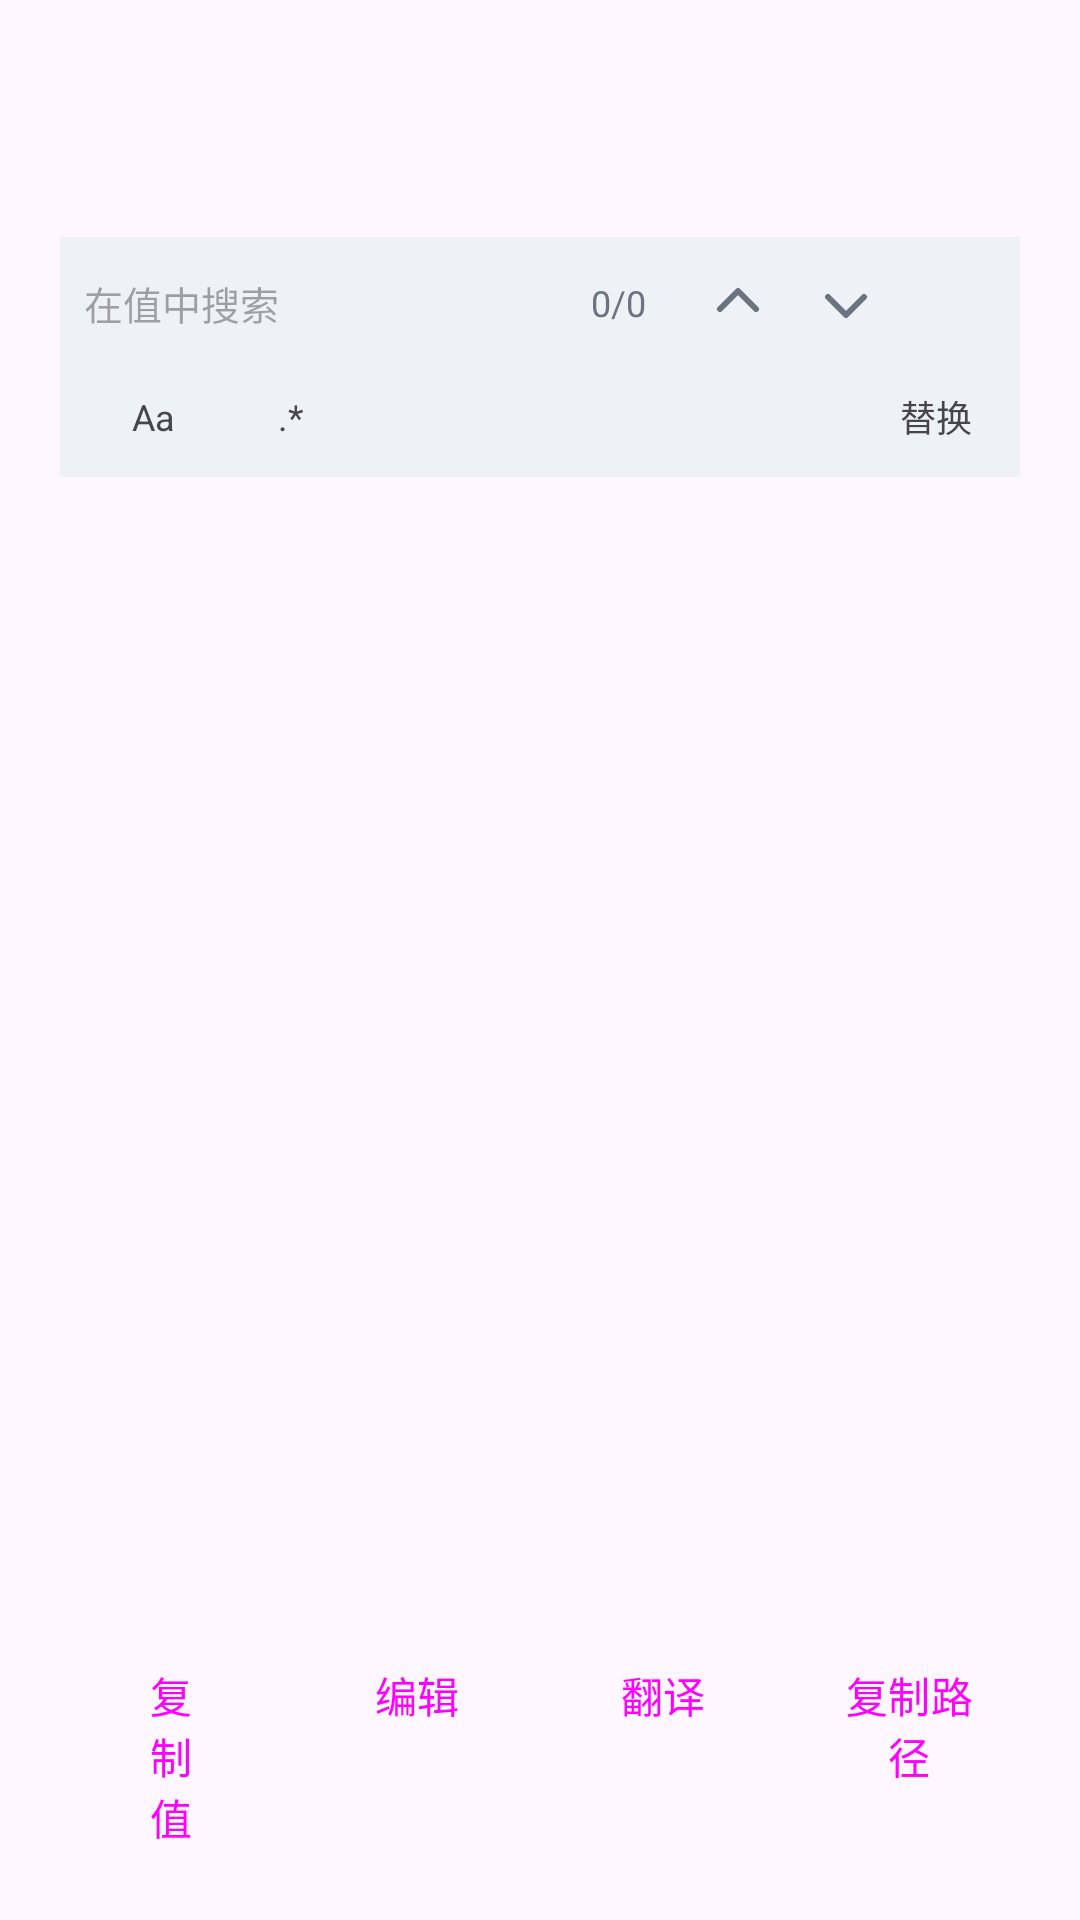

Icons on this 1080 x 1920 Android screen, each with its box as (x1, y1, x2, y2):
上一个: (717, 288, 759, 312)
下一个: (825, 294, 867, 318)
